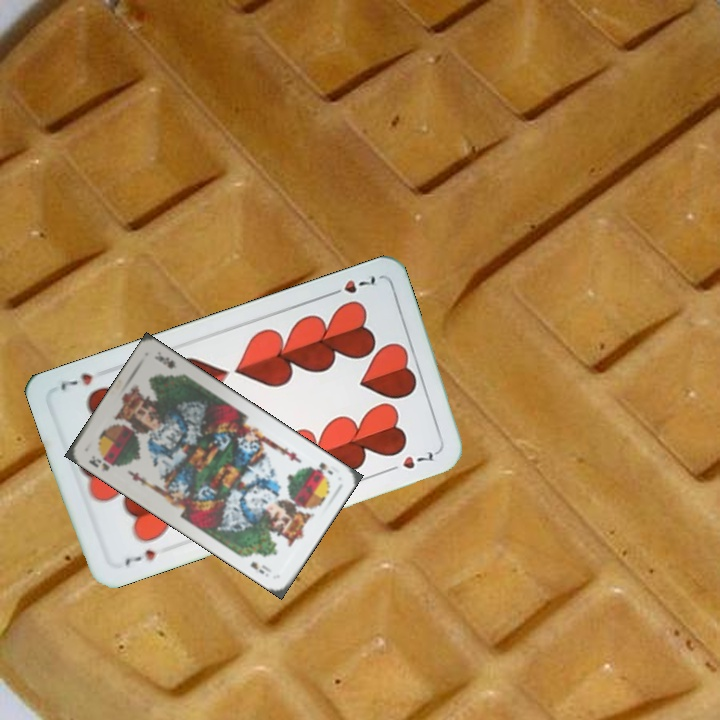H7: (324, 271, 378, 299), (121, 545, 158, 568)
SK: (84, 451, 112, 475), (313, 458, 336, 477)
